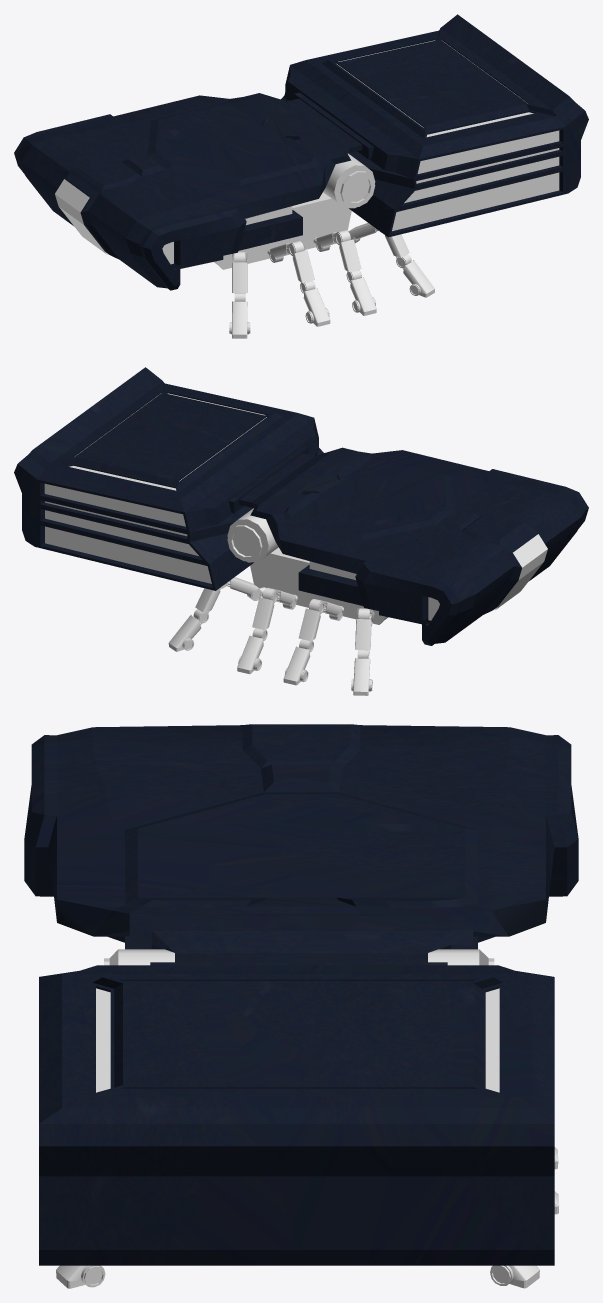
Rendered from test_fourmis_uv(1).fbx.
The picture shows the model from 3 angles, top to bottom: view 1: azimuth 30°, elevation 25°; view 2: azimuth 150°, elevation 25°; view 3: azimuth 270°, elevation 25°; orthographic projection. The views are drawn at different scales.
Parts seen in each view (by area): view 1: Box045, Box055, neon005, Box044, Cylinder499, neon003, Box061, Box064, Box067, neon001, Box048, Box063 (+2 smaller); view 2: Box045, Box055, neon004, Box044, Cylinder499, neon003, Box073, Box076, neon001, Box070, Box079, Box072 (+2 smaller); view 3: Box055, Box045, neon001, Cylinder499.
Part boxes in pixels (box(x1,y1,x2,y2)): Box045: box(14, 93, 362, 290); Box055: box(281, 14, 588, 237); neon005: box(392, 130, 559, 231); Box044: box(215, 192, 351, 269); Cylinder499: box(323, 153, 375, 208); neon003: box(55, 179, 107, 254); Box061: box(350, 277, 376, 315); Box064: box(303, 288, 330, 326); Box067: box(232, 301, 247, 338); neon001: box(336, 40, 533, 137); Box048: box(403, 260, 434, 297); Box063: box(292, 250, 314, 282); Box045: box(239, 447, 588, 645); Box055: box(14, 367, 323, 590); neon004: box(44, 483, 211, 583); Box044: box(250, 547, 386, 624); Cylinder499: box(227, 508, 278, 562); neon003: box(495, 534, 547, 609); Box073: box(283, 646, 310, 685); Box076: box(237, 635, 263, 674); neon001: box(69, 393, 266, 490); Box070: box(353, 658, 370, 695); Box079: box(168, 614, 201, 651); Box072: box(298, 608, 320, 641); Box055: box(39, 962, 554, 1265); Box045: box(24, 724, 578, 962); neon001: box(96, 988, 499, 1092); Cylinder499: box(104, 949, 494, 965).
Bounding box in the file's own units: 230 × 78.69 × 121.
